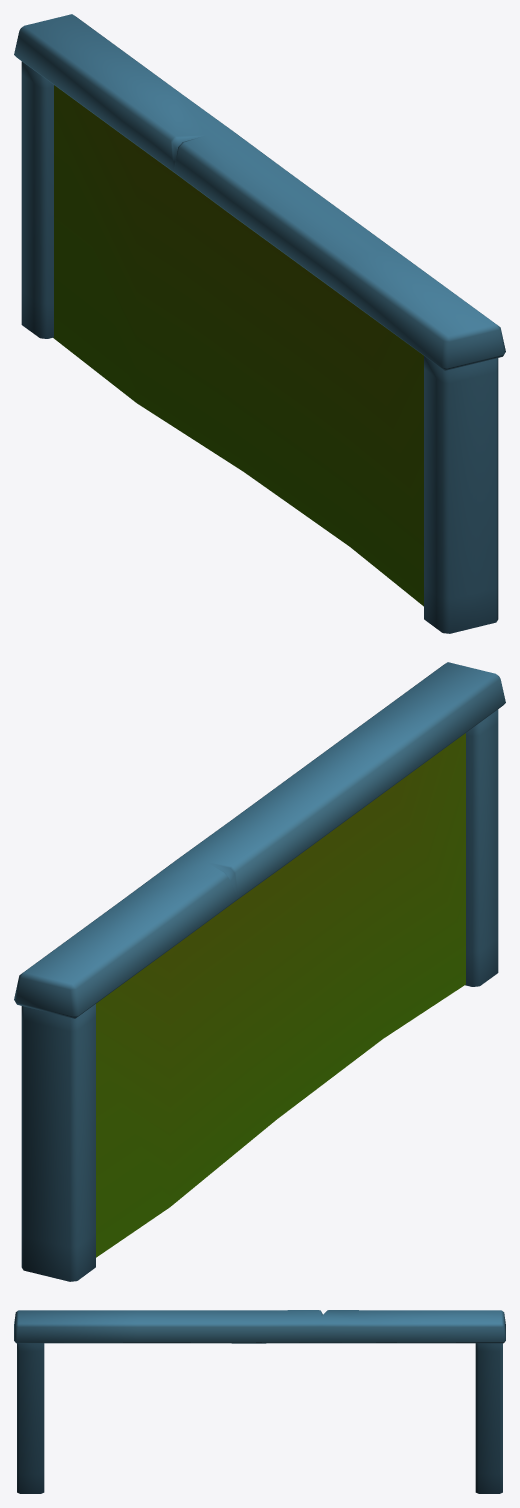
Rendered from BrickWall01Night.glb.
The picture shows the model from 3 angles, top to bottom: view 1: azimuth 30°, elevation 25°; view 2: azimuth 150°, elevation 25°; view 3: azimuth 270°, elevation 25°; orthographic projection. The views are drawn at different scales.
Visible parts, largest first — view 1: BrickWall01Night; view 2: BrickWall01Night; view 3: BrickWall01Night.
Boxes of the visible parts, x1,y1,x2,y2 form: BrickWall01Night: (14,14,505,633); BrickWall01Night: (14,662,505,1281); BrickWall01Night: (14,1310,505,1493).
Bounding box in the file's own units: 0.7885 × 3.52 × 9.12.
Materials: 2 (1 with a texture image).
